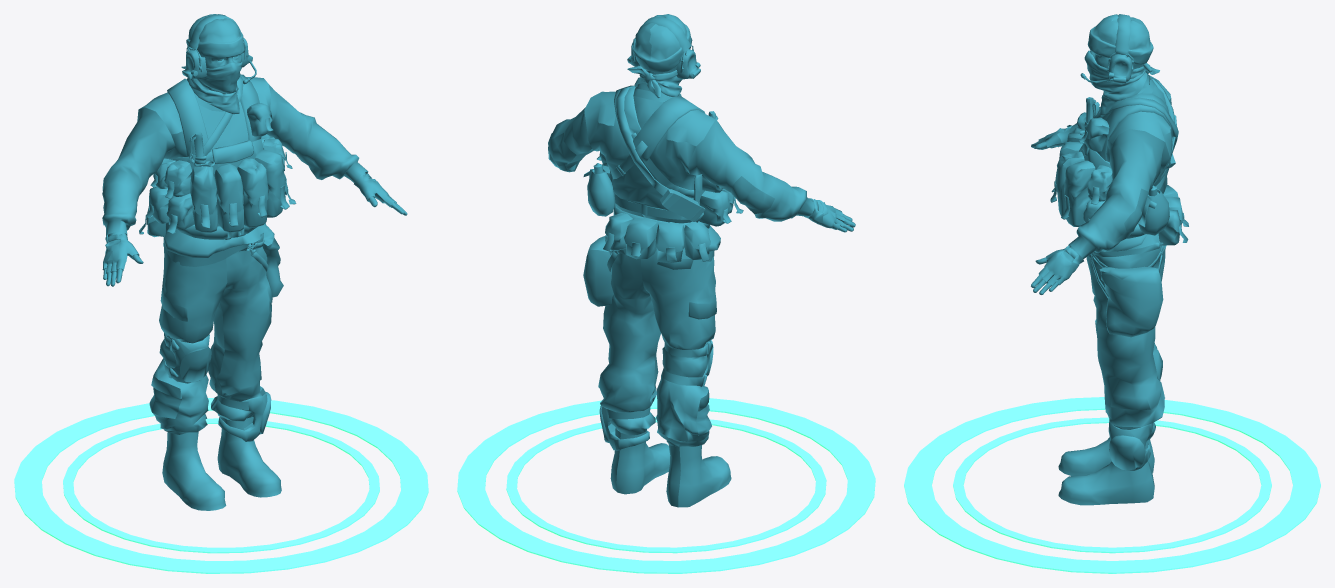
Rendered from AnimTT.glb.
3 views of the same model, side by side, from view 1: azimuth 30°, elevation 25°; view 2: azimuth 150°, elevation 25°; view 3: azimuth 270°, elevation 25° (orthographic).
Parts seen in each view (by area): view 1: Middle_Part, Bottom_Part, Cylinder, Head; view 2: Middle_Part, Bottom_Part, Cylinder, Head; view 3: Cylinder, Middle_Part, Bottom_Part, Head.
Boxes of the visible parts, left/top/right/bottom form: Middle_Part: left=102, top=74, right=407, bottom=286; Bottom_Part: left=149, top=222, right=283, bottom=510; Cylinder: left=14, top=398, right=428, bottom=573; Head: left=181, top=14, right=256, bottom=114; Middle_Part: left=548, top=85, right=855, bottom=263; Bottom_Part: left=583, top=235, right=731, bottom=507; Cylinder: left=457, top=396, right=875, bottom=573; Head: left=627, top=14, right=700, bottom=97; Cylinder: left=904, top=397, right=1320, bottom=573; Middle_Part: left=1031, top=74, right=1188, bottom=294; Bottom_Part: left=1058, top=233, right=1166, bottom=505; Head: left=1080, top=14, right=1159, bottom=116.
Size of the model in its own units: 1.47 by 1.82 by 1.47.
